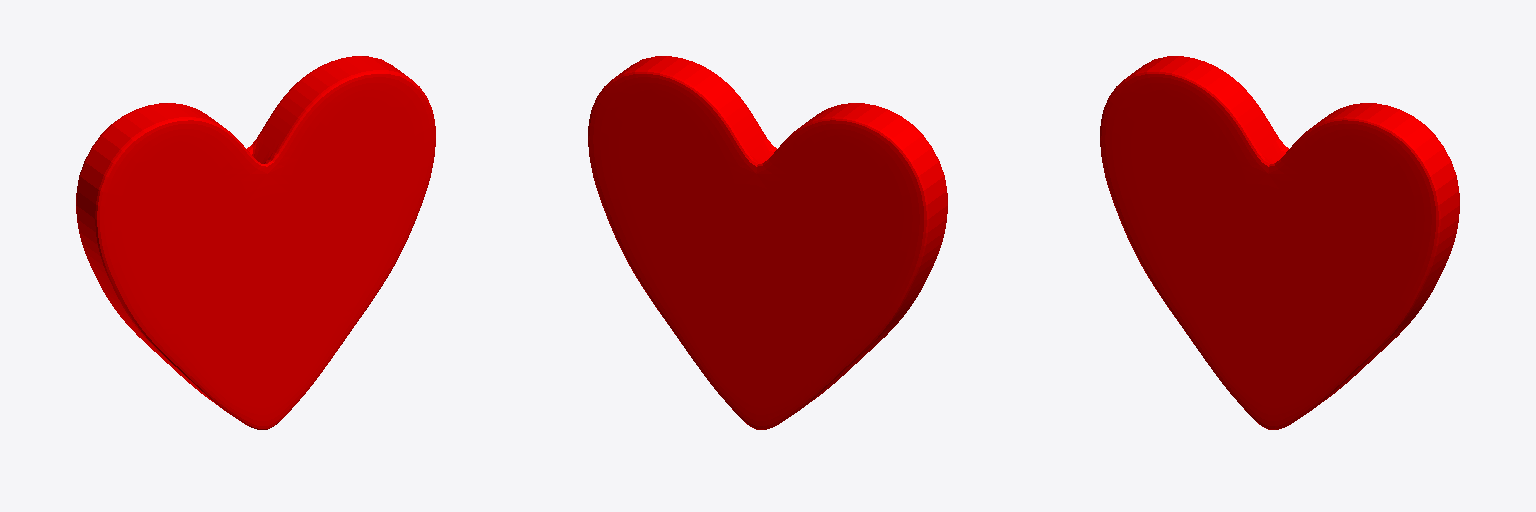
Rendered from heart.obj.
3 views of the same model, side by side, from view 1: azimuth 30°, elevation 25°; view 2: azimuth 150°, elevation 25°; view 3: azimuth 330°, elevation 25° (orthographic).
Visible parts, largest first — view 1: Heart; view 2: Heart; view 3: Heart.
Boxes of the visible parts, x1,y1,x2,y2 form: Heart: [76, 56, 435, 429]; Heart: [588, 56, 947, 429]; Heart: [1100, 56, 1459, 429].
Bounding box in the file's own units: 2.47 × 2.32 × 0.2956.